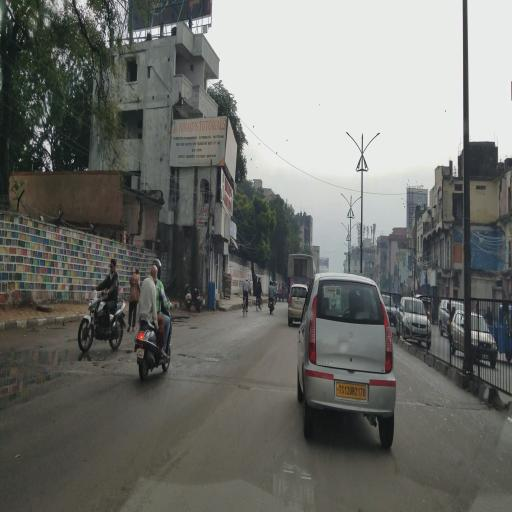street_light_0: (342, 121, 362, 165), (362, 123, 384, 159), (336, 184, 354, 220), (350, 190, 368, 216)
